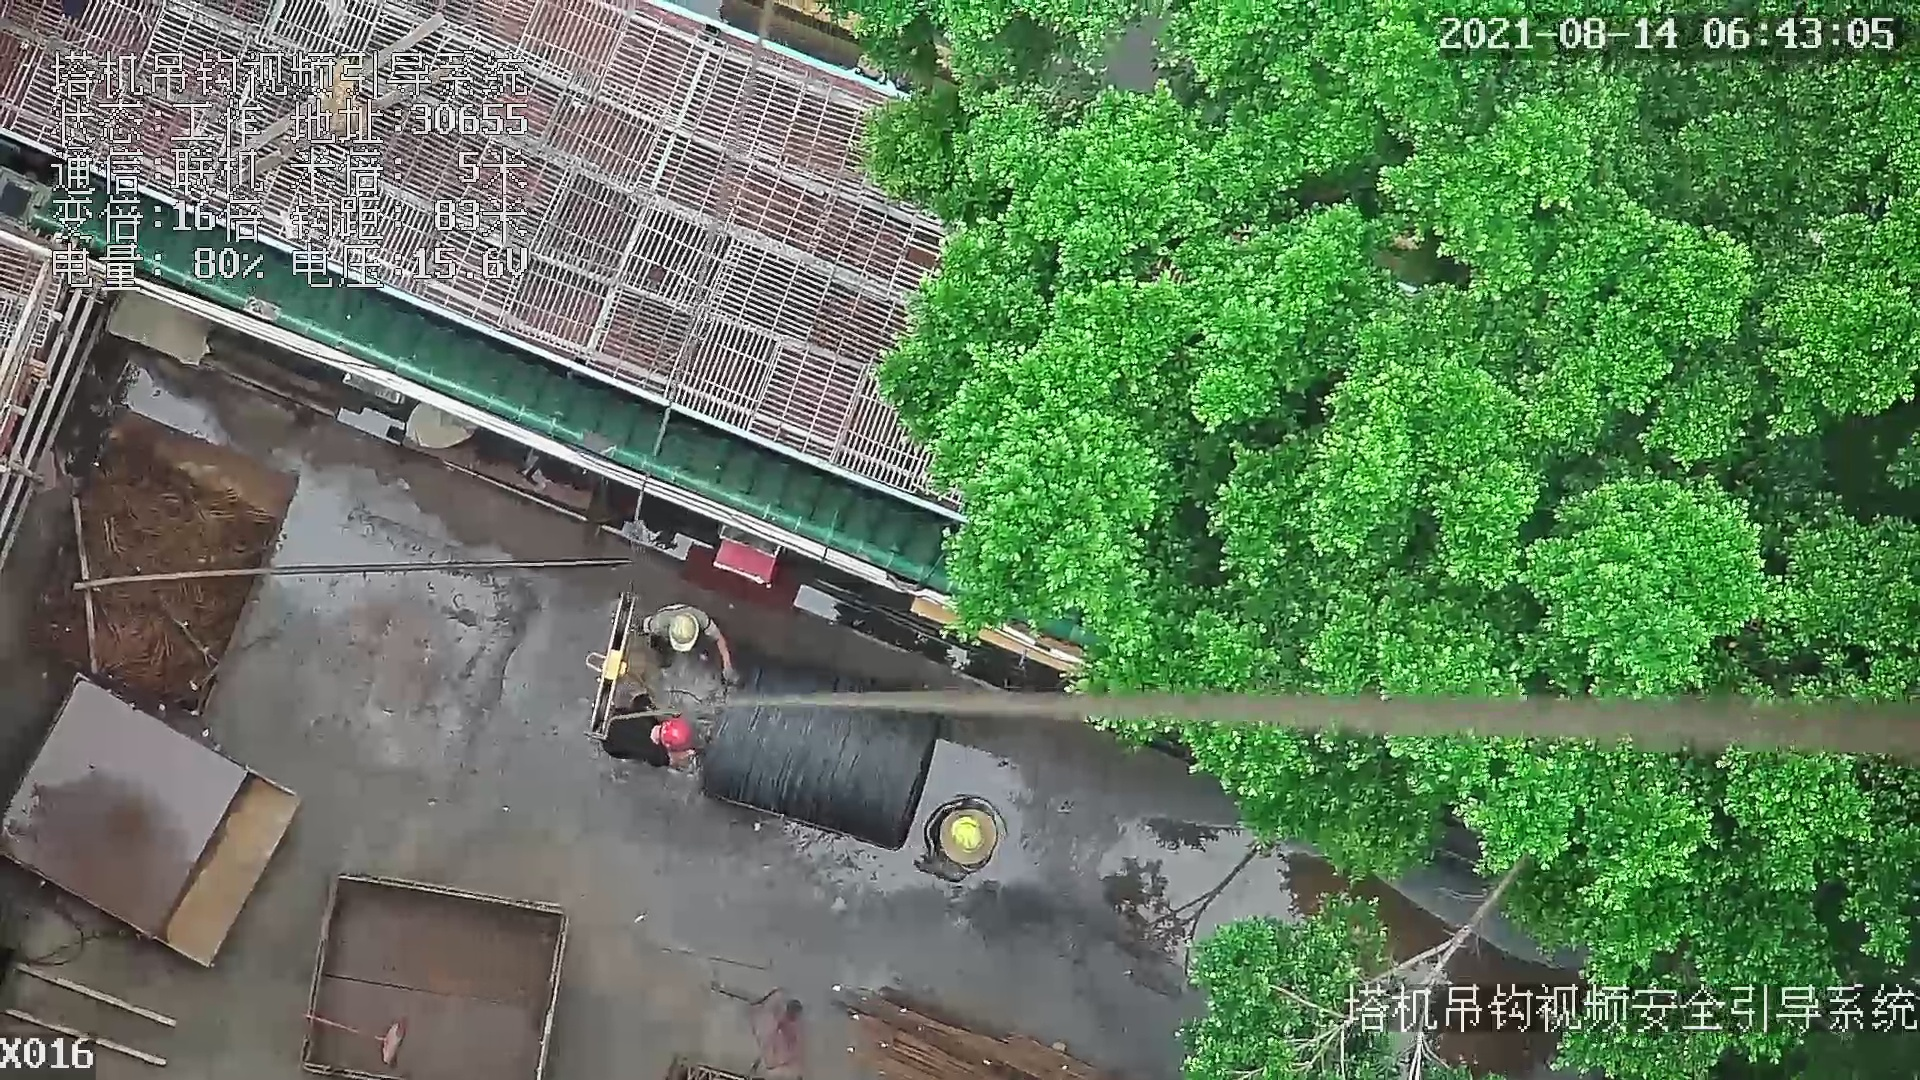helmet: (662, 712, 707, 749), (667, 611, 701, 656), (951, 819, 986, 856)
hook: (578, 586, 637, 739)
person: (640, 606, 742, 695), (594, 705, 703, 782), (920, 799, 996, 885)
